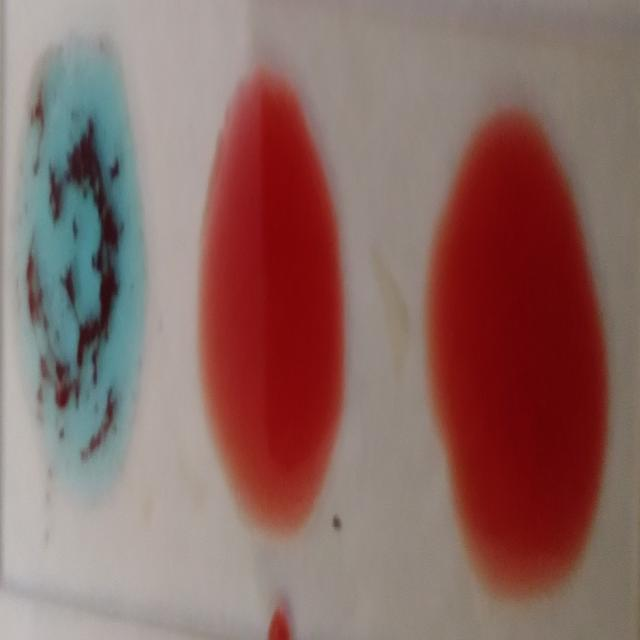A: (12, 46, 134, 474)
